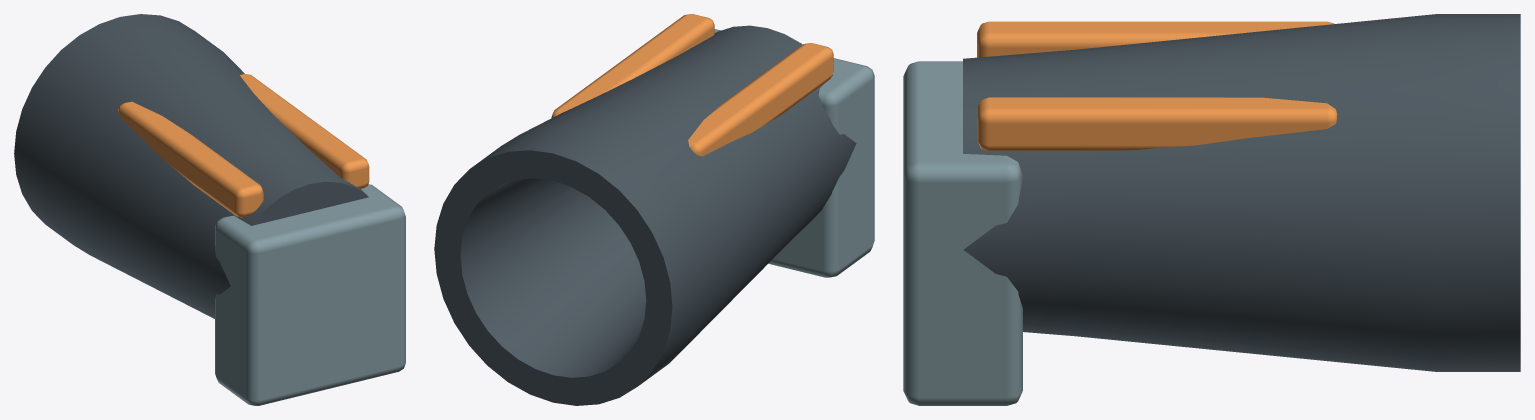
Rendered from engine-small.glb.
3 views of the same model, side by side, from view 1: azimuth 30°, elevation 25°; view 2: azimuth 150°, elevation 25°; view 3: azimuth 270°, elevation 25° (orthographic). The views are drawn at different scales.
Visible parts, largest first — view 1: small-engine; view 2: small-engine; view 3: small-engine.
Part boxes in pixels (x1,y1,x2,y2): small-engine: (14,14,405,405); small-engine: (434,14,874,405); small-engine: (903,14,1520,405).
Bounding box in the file's own units: 0.9001 × 0.9001 × 1.55.
